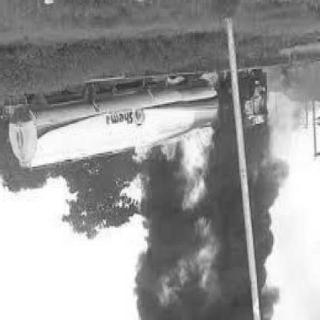Fire: (129, 74, 222, 310)
Smoke: (224, 121, 281, 320)
